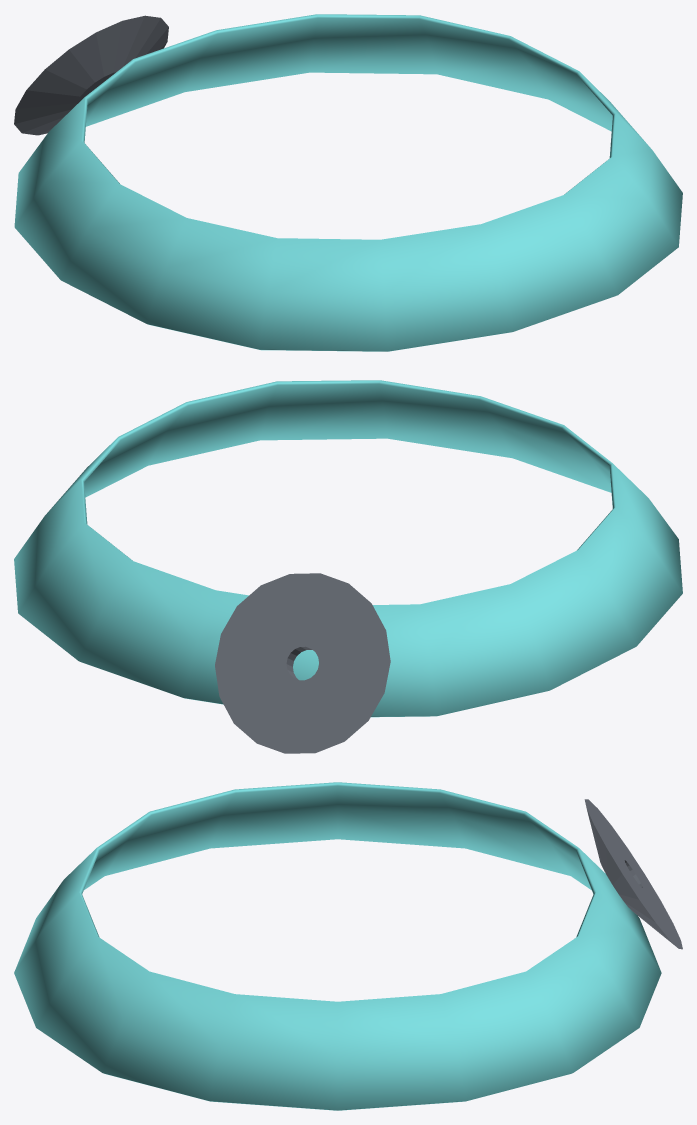
The model's file is doctorheadband.fbx.
3 renders of one model, top to bottom at view 1: azimuth 30°, elevation 25°; view 2: azimuth 150°, elevation 25°; view 3: azimuth 270°, elevation 25°, orthographic. The views are drawn at different scales.
Parts seen in each view (by area): view 1: Headband, headpiece; view 2: Headband, headpiece; view 3: Headband, headpiece.
Part boxes in pixels (<box>): Headband: <box>14,14,682,351</box>; headpiece: <box>14,15,168,135</box>; Headband: <box>14,380,682,717</box>; headpiece: <box>215,573,390,753</box>; Headband: <box>14,782,661,1110</box>; headpiece: <box>584,799,682,949</box>.
Bounding box in the file's own units: 159 × 37.37 × 164.
